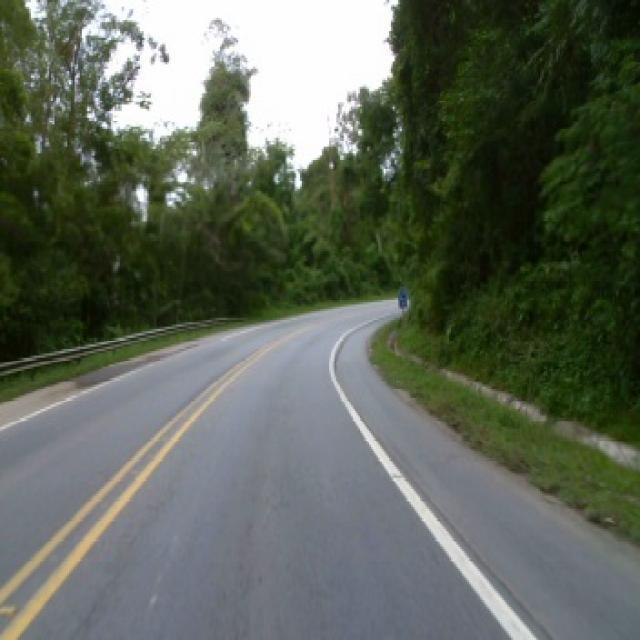Poth-hole: (0, 602, 18, 616), (389, 469, 402, 478)
